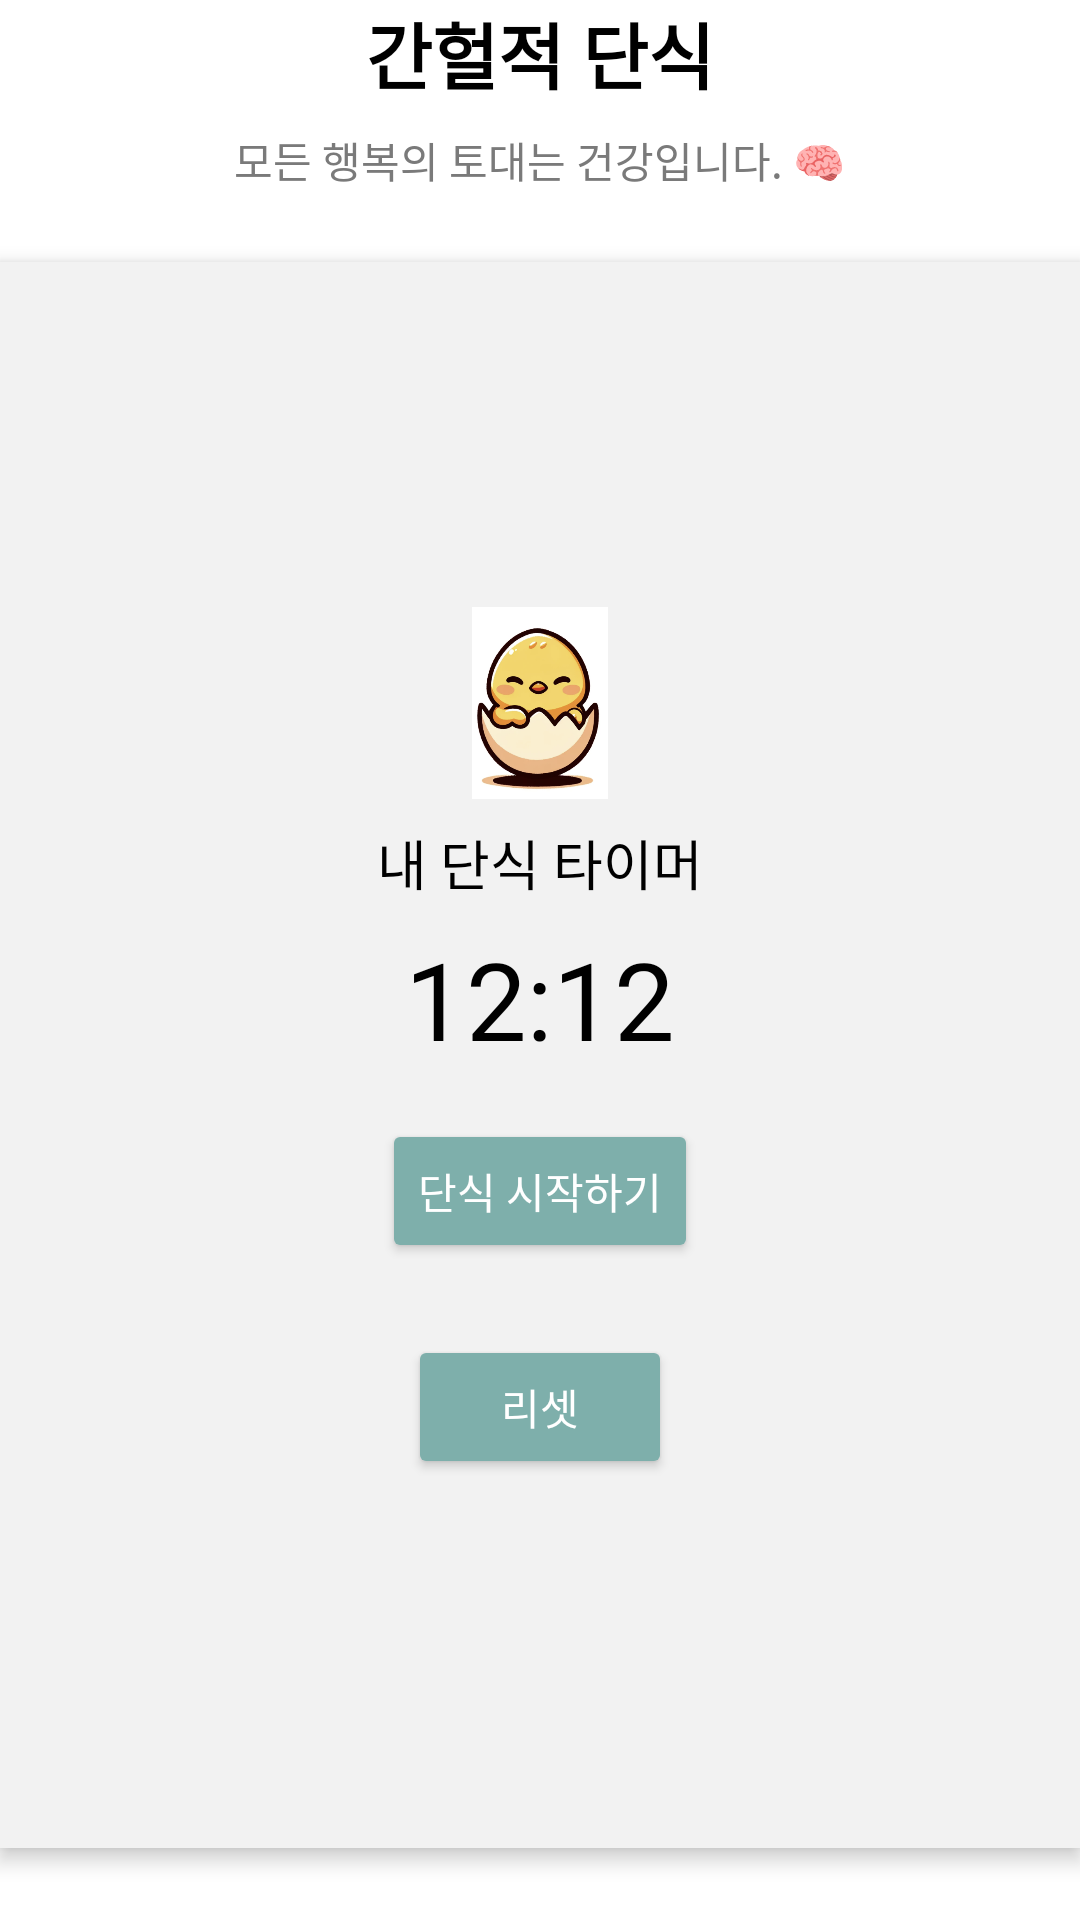

Icons on this 1080 x 1920 Android screen, each with the point to tap as (x=x, y=y):
Egg Icon: (x=538, y=708)
